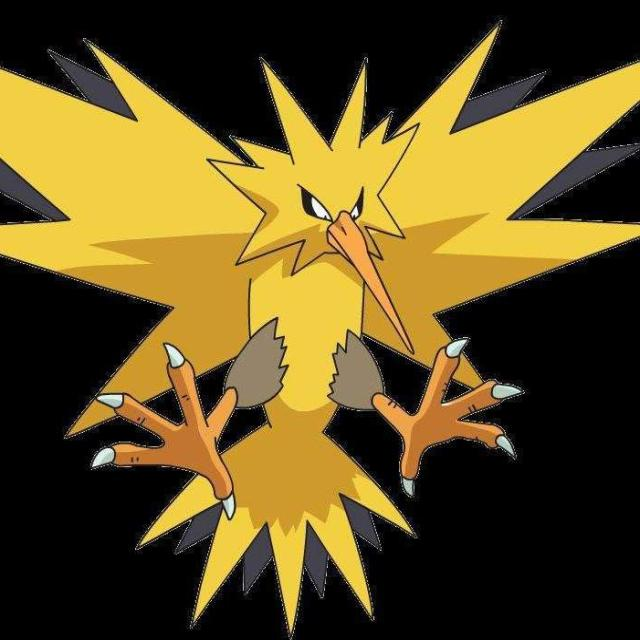Zapdos: (112, 56, 519, 570)
